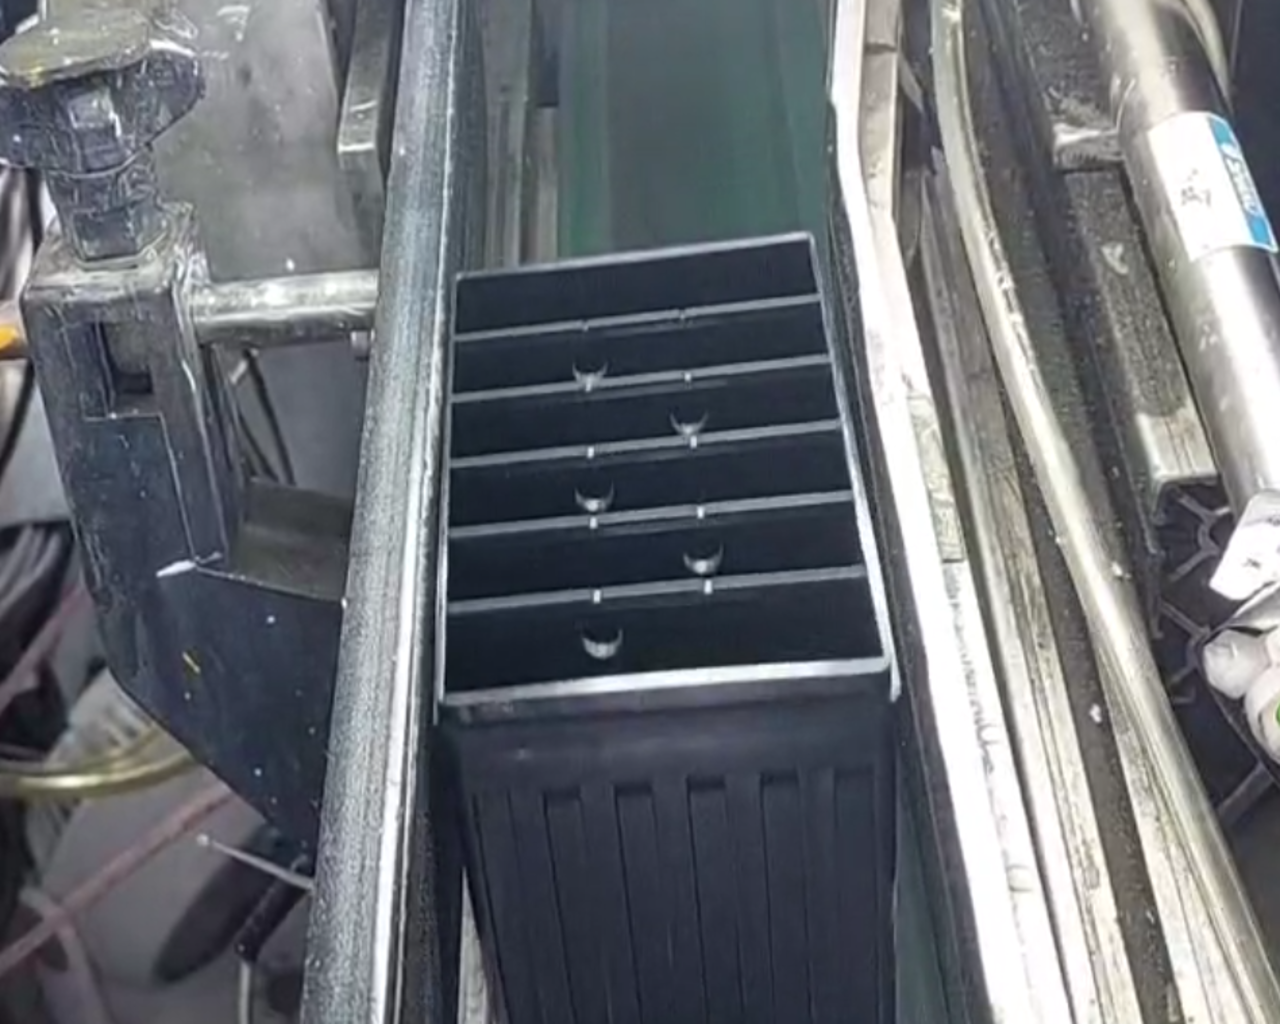box: (419, 216, 913, 741)
round: (672, 518, 735, 582), (571, 603, 634, 664), (565, 461, 625, 516), (659, 385, 721, 438), (561, 339, 619, 387)
